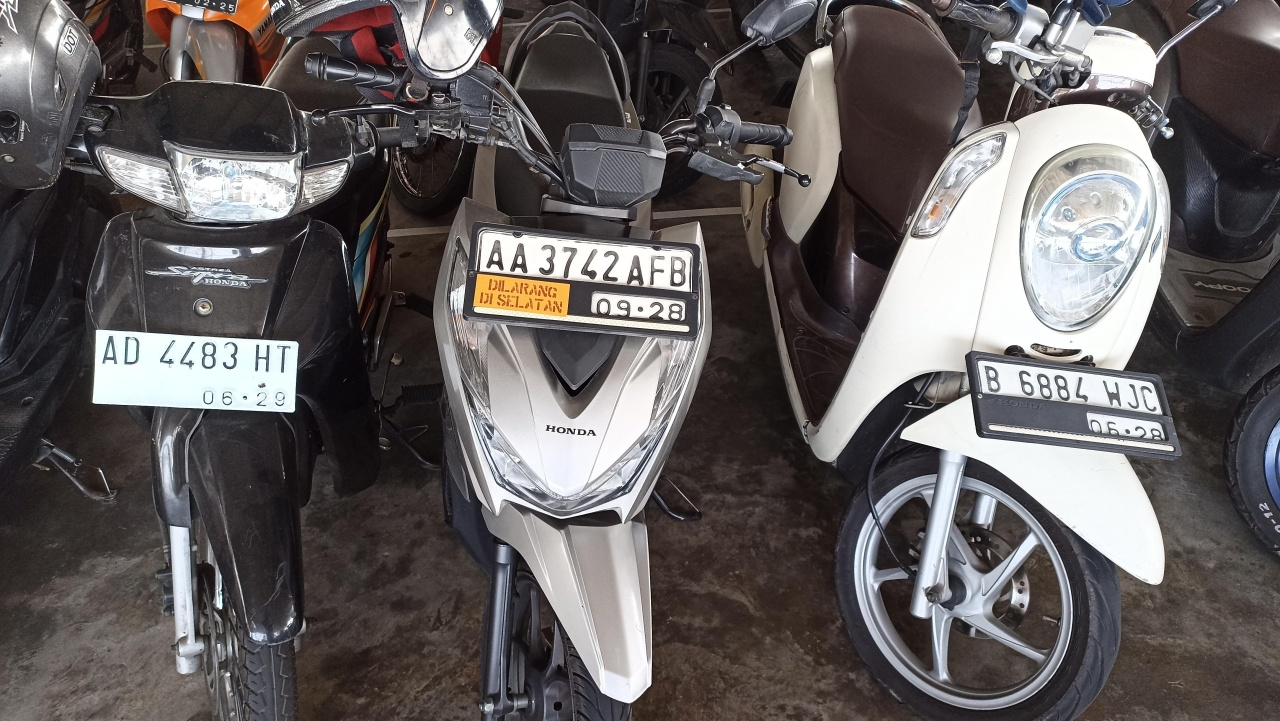plate: (463, 223, 698, 340), (967, 353, 1179, 456), (93, 331, 299, 413)
